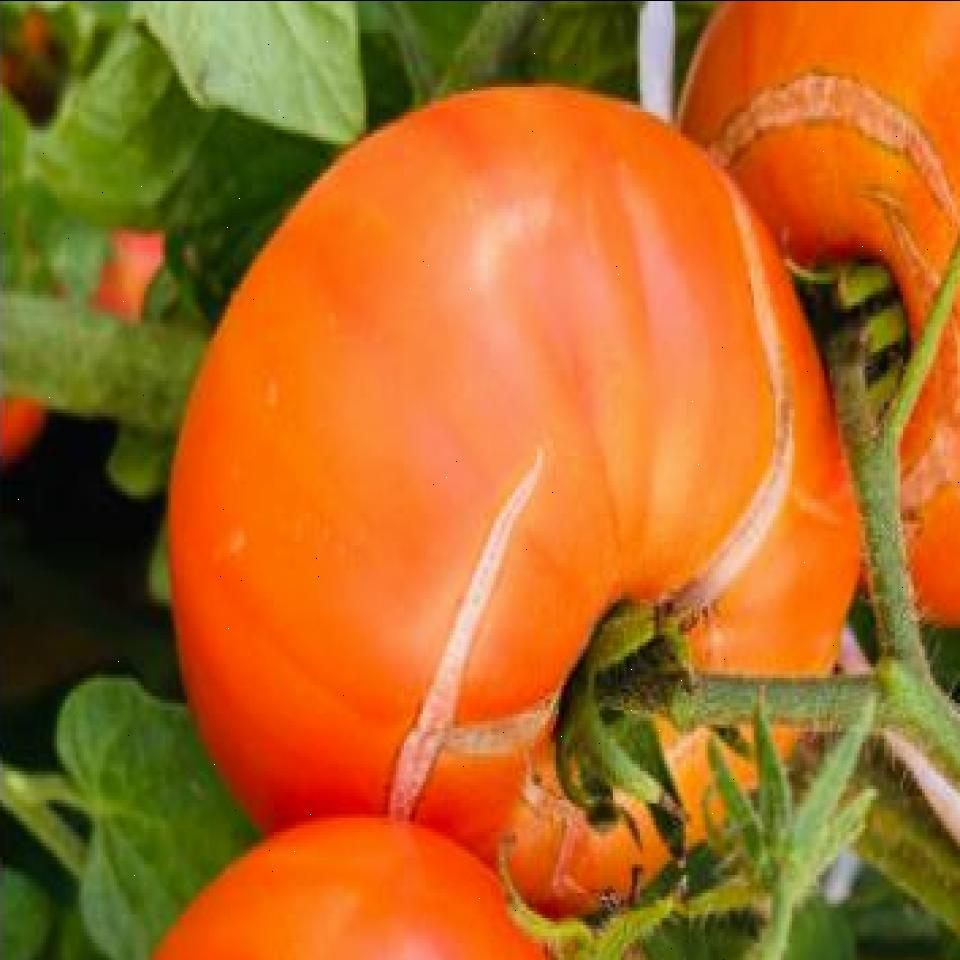Cracking: (362, 378, 624, 874), (654, 119, 806, 651), (700, 3, 960, 254)
